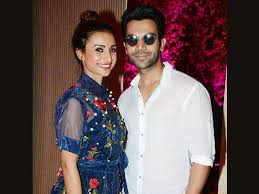Bad: (55, 5, 215, 193)
